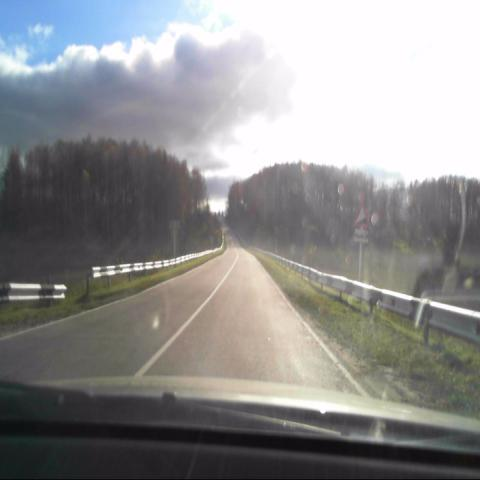1_14: (355, 203, 369, 227)
